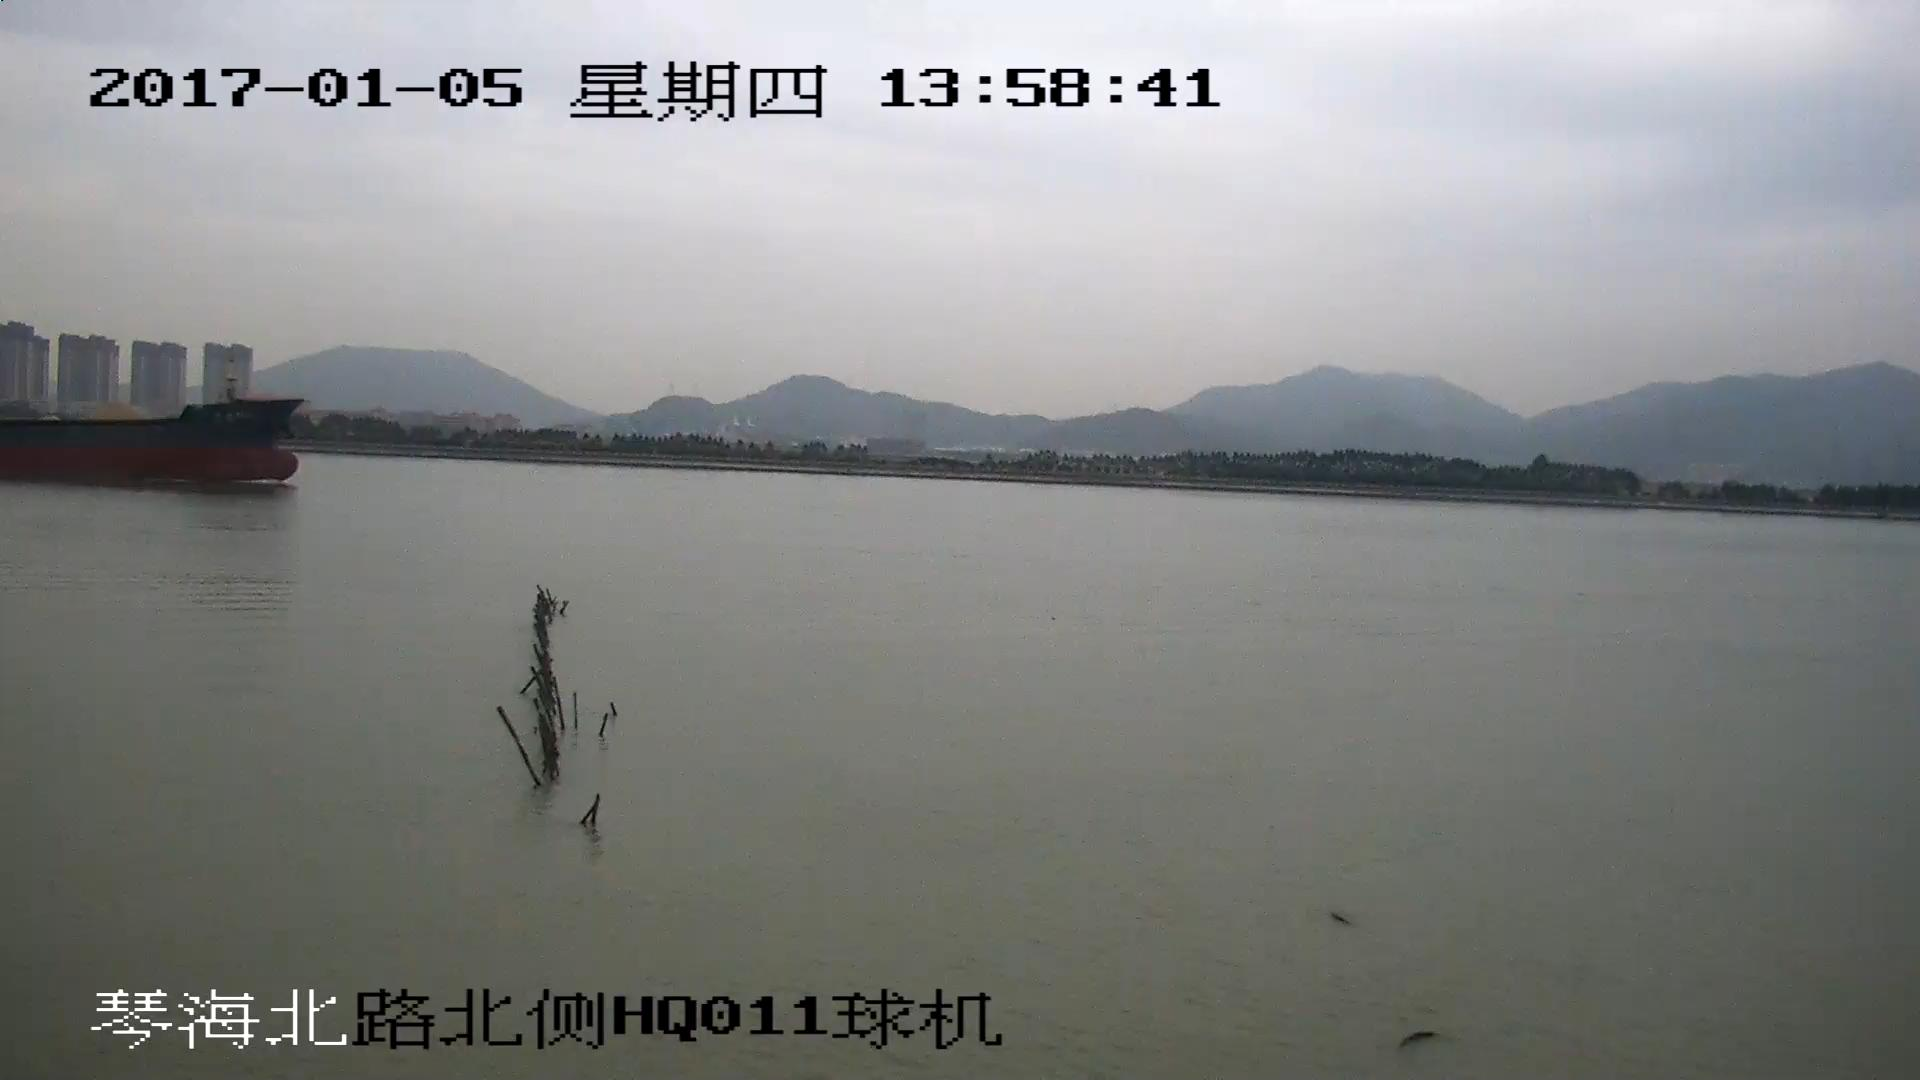general cargo ship: (1, 361, 308, 480)
